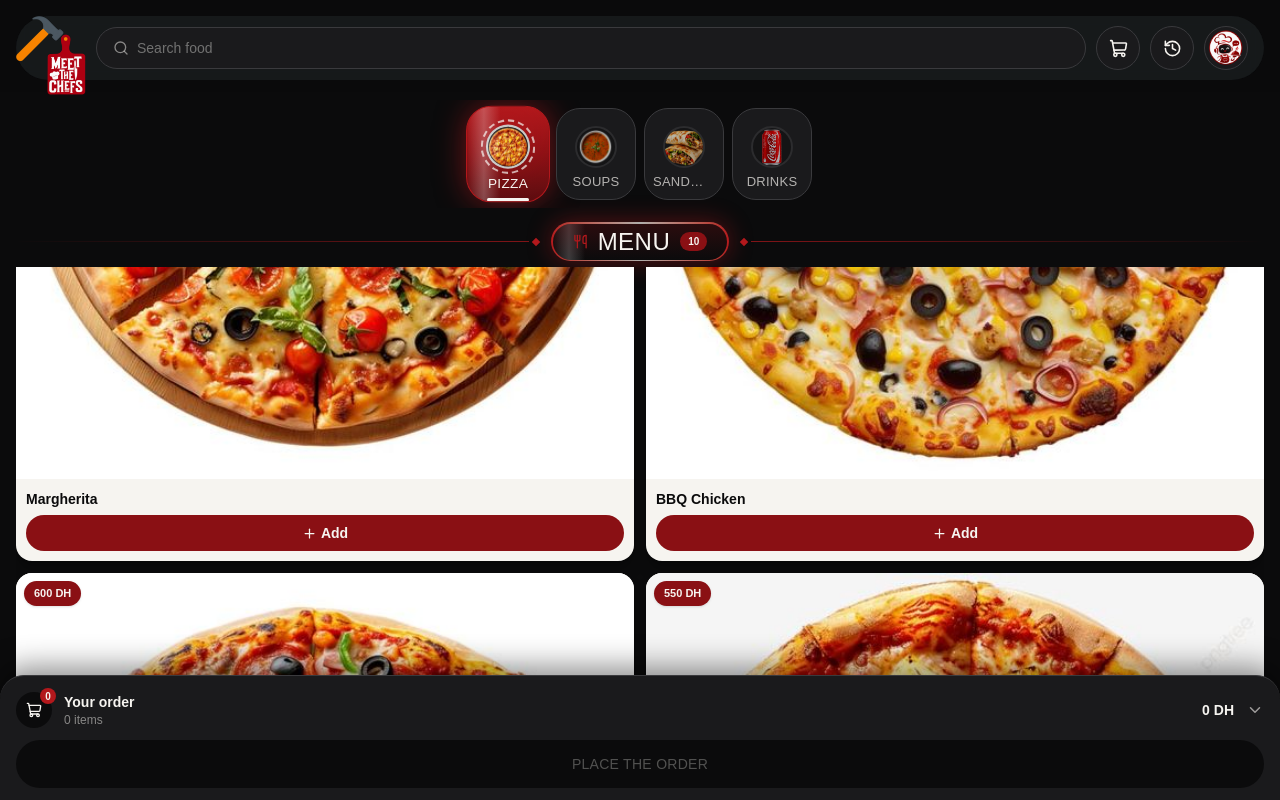
Test: Table routing › attaches the scanned table id to a placed order
The image size is (1280, 800).
(page scrolled)
Click the button with aria-label "add margherita": (325, 533) [26,515,624,551]
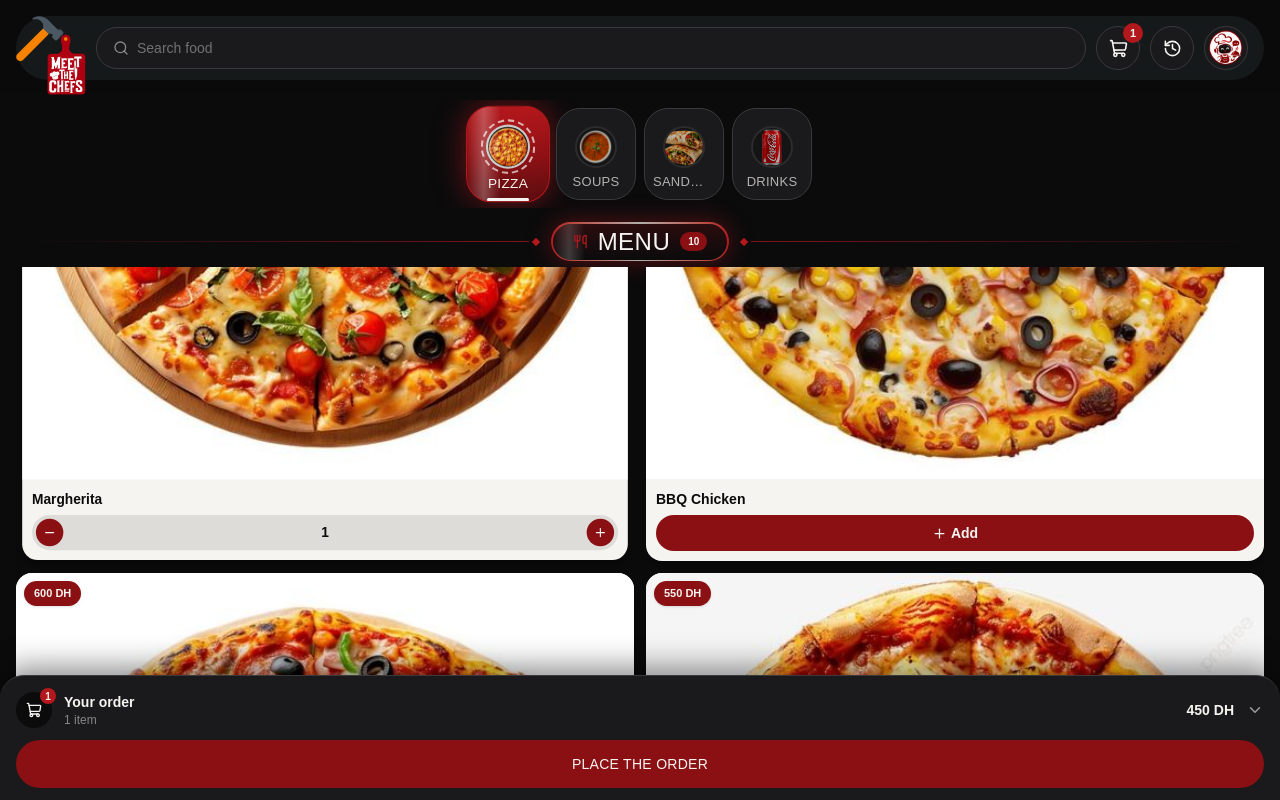
Click the button "PLACE THE ORDER": (640, 764) [16,740,1264,788]
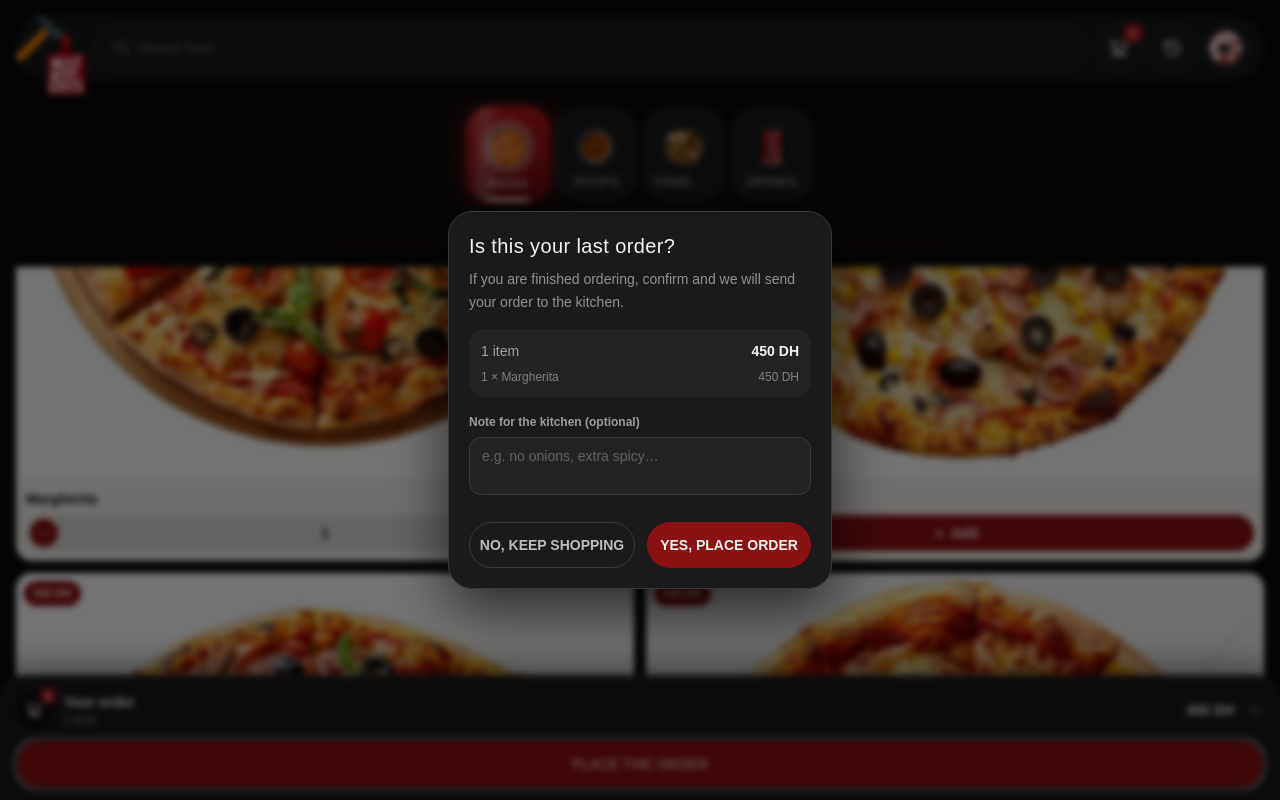
# Placing an order now asks for confirmation first.
Click the button "YES, PLACE ORDER": (729, 545) [647,522,811,568]
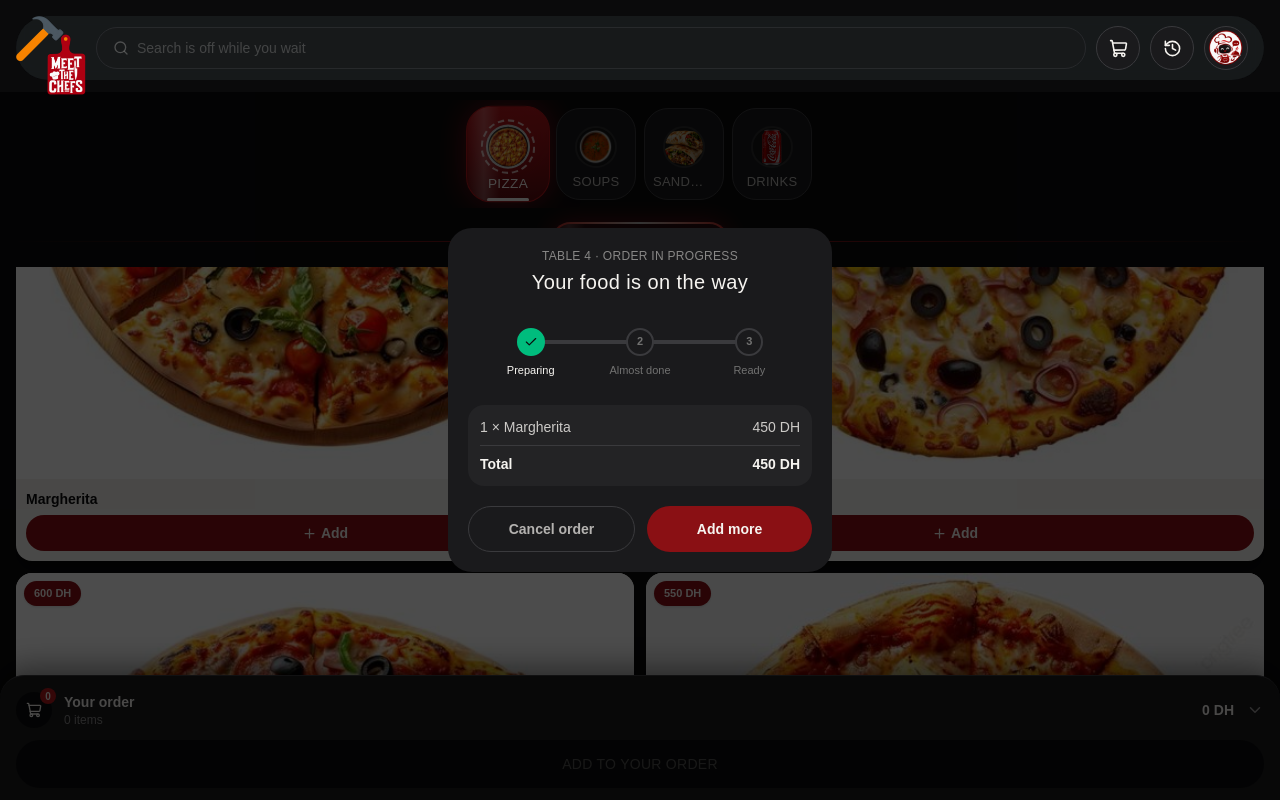
Result: the text "Table 4 · Order in progress" is shown at [542,249,738,263]
